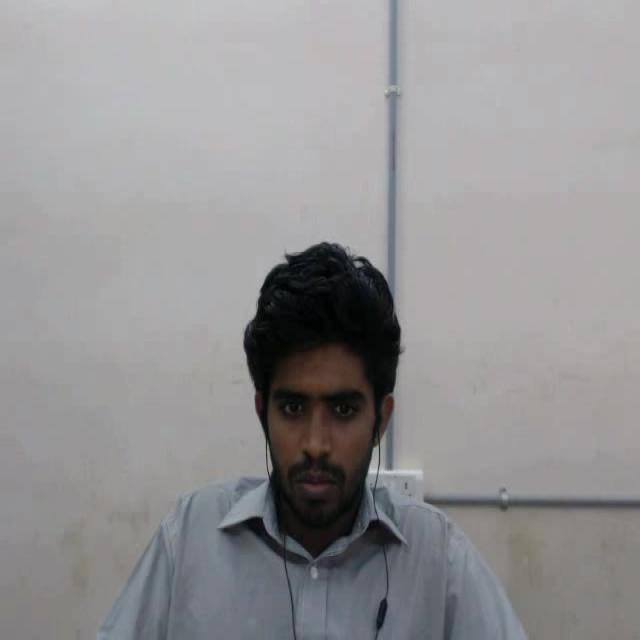Engaged: (238, 210, 412, 580)
